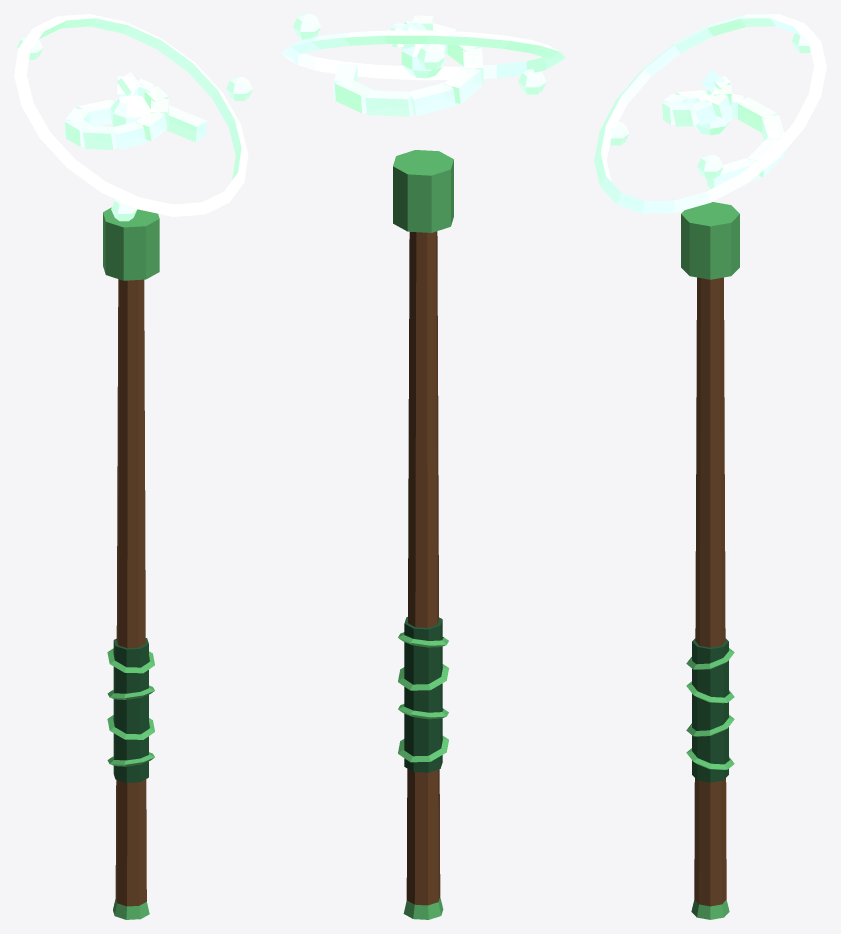
File: weapon_staff_tempest_v01.glb
3 renders of one model, left to right at view 1: azimuth 30°, elevation 25°; view 2: azimuth 150°, elevation 25°; view 3: azimuth 270°, elevation 25°, orthographic. The views are drawn at different scales.
Visible parts, largest first — view 1: weapon_staff_tempest; view 2: weapon_staff_tempest; view 3: weapon_staff_tempest.
Part boxes in pixels (x1,y1,x2,y2): weapon_staff_tempest: [14, 14, 252, 919]; weapon_staff_tempest: [281, 14, 565, 919]; weapon_staff_tempest: [594, 14, 826, 919].
Size of the model in its own units: 0.3575 by 1.29 by 0.3159.
